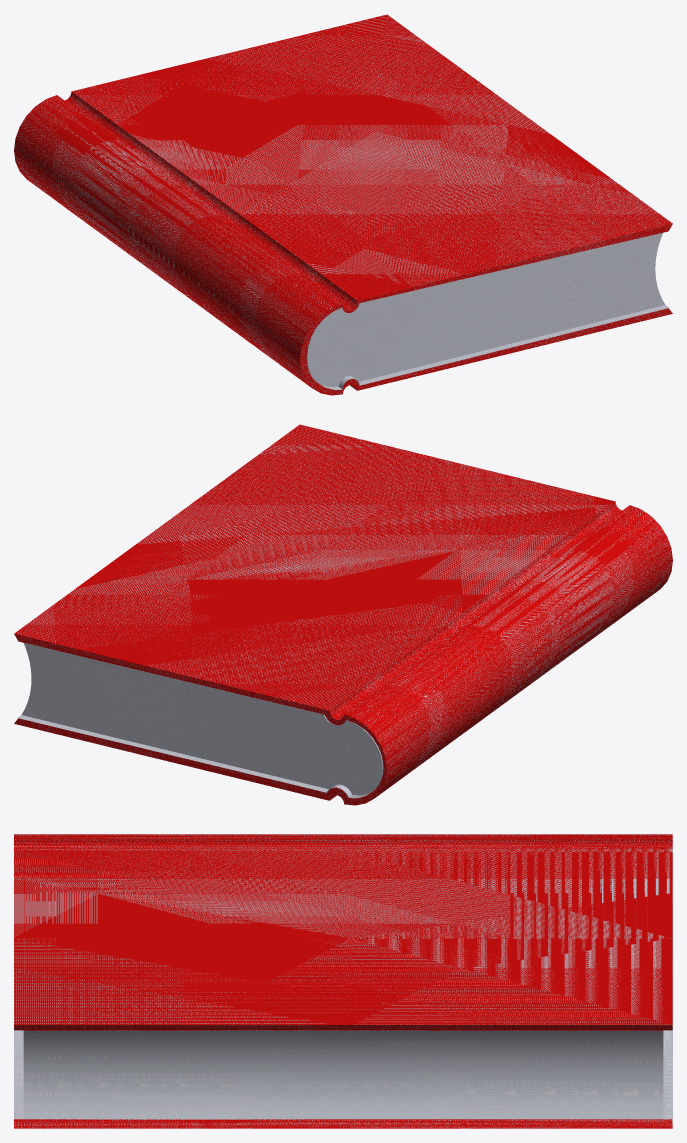
File: book1_red.dae
The picture shows the model from 3 angles, top to bottom: view 1: azimuth 30°, elevation 25°; view 2: azimuth 150°, elevation 25°; view 3: azimuth 270°, elevation 25°; orthographic projection. The views are drawn at different scales.
Parts seen in each view (by area): view 1: SketchUp, SketchUp_001; view 2: SketchUp, SketchUp_002; view 3: SketchUp, SketchUp_001, SketchUp_002.
Part boxes in pixels (<box>): SketchUp: <box>14,14,672,395</box>; SketchUp_001: <box>306,231,669,389</box>; SketchUp: <box>14,424,672,805</box>; SketchUp_002: <box>17,641,383,798</box>; SketchUp: <box>14,834,672,1128</box>; SketchUp_001: <box>14,1030,663,1119</box>; SketchUp_002: <box>663,840,672,1119</box>.
Bounding box in the file's own units: 0.065 × 0.0863 × 0.015.
